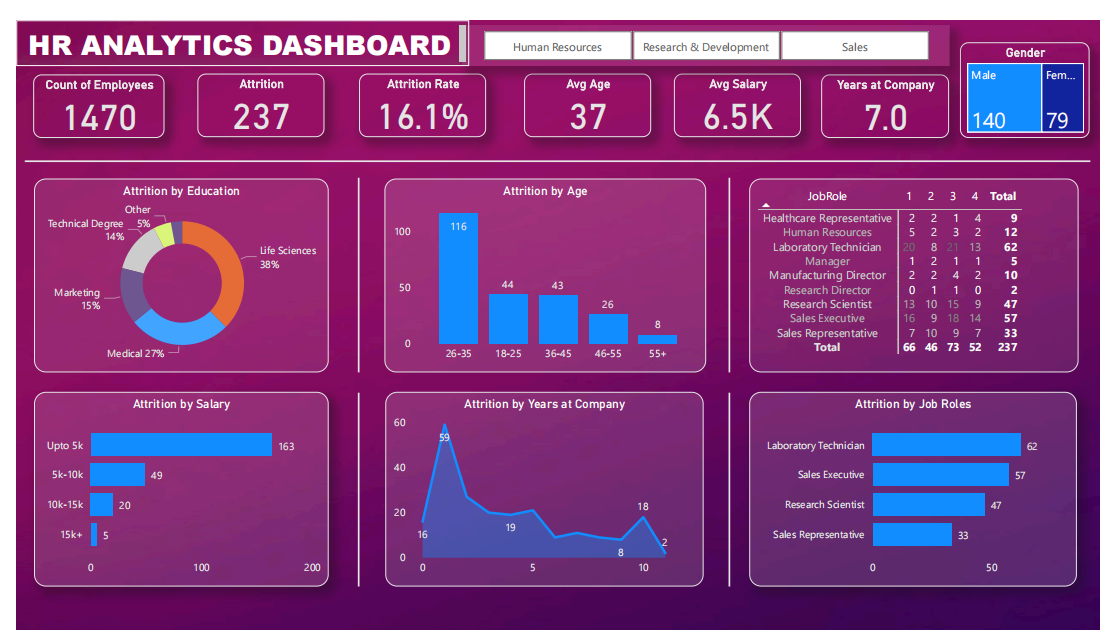

This screenshot's page, from the dashboard's own definition file:
{"tool":"powerbi","page":{"name":"Page 1","canvas":[1280,720],"ordinal":0},"visuals":[{"type":"card","title":"Count of Employees ","fields":{"Values":["CountNonNull(HR_Analytics.EmpID)"]},"box":[20.4,63.7,154.3,75.2],"z":0},{"type":"card","title":"Avg Age","fields":{"Values":["Avg(HR_Analytics.Age)"]},"box":[599.6,63.2,150,75],"z":1000},{"type":"card","title":"Attrition Rate","fields":{"Values":["HR_Analytics.AttritionRate"]},"box":[405.1,63.2,150,75],"z":2000},{"type":"card","title":"Attrition","fields":{"Values":["Sum(HR_Analytics.AttritionCount)"]},"box":[213.7,63.2,150,75],"z":3000},{"type":"card","title":"Avg Salary","fields":{"Values":["Avg(HR_Analytics.MonthlyIncome)"]},"box":[777.2,63.2,150,75],"z":4000},{"type":"card","title":"Years at Company","fields":{"Values":["Avg(HR_Analytics.YearsAtCompany)"]},"box":[951.1,63.7,150.4,75.2],"z":5000},{"type":"donutChart","title":"Attrition by Education","fields":{"Category":["HR_Analytics.EducationField"],"Y":["Sum(HR_Analytics.AttritionCount)"]},"box":[21.3,186.5,347.2,229.2],"z":6000},{"type":"columnChart","title":"Attrition by Age","fields":{"Category":["HR_Analytics.AgeGroup"],"Y":["Sum(HR_Analytics.AttritionCount)"]},"box":[434.8,186.5,379.8,229.2],"z":7000},{"type":"pivotTable","fields":{"Rows":["HR_Analytics.JobRole"],"Columns":["HR_Analytics.JobSatisfaction"],"Values":["Sum(HR_Analytics.AttritionCount)"]},"box":[866.3,186.5,388.8,229.2],"z":8000},{"type":"barChart","title":"Attrition by Salary","fields":{"Category":["HR_Analytics.SalarySlab"],"Y":["Sum(HR_Analytics.AttritionCount)"]},"box":[21.3,439.3,347.2,229.2],"z":9000},{"type":"barChart","title":"Attrition by Job Roles","fields":{"Category":["HR_Analytics.JobRole"],"Y":["Sum(HR_Analytics.AttritionCount)"]},"box":[866.3,439.3,386.5,229.2],"z":10000},{"type":"areaChart","title":"Attrition by Years at Company","fields":{"Category":["HR_Analytics.YearsAtCompany"],"Y":["Sum(HR_Analytics.AttritionCount)"]},"box":[436,439.3,376.4,229.2],"z":11000},{"type":"treemap","title":"Gender","fields":{"Group":["HR_Analytics.Gender"],"Values":["Sum(HR_Analytics.AttritionCount)"]},"box":[1115.5,25.7,152.5,113.2],"z":12000},{"type":"slicer","fields":{"Values":["HR_Analytics.Department"]},"box":[527,5.6,575.3,48.3],"z":13000},{"type":"textbox","box":[0,0,534.8,53.9],"z":14000}]}

Visuals, with their boxes in screenshot pixels (x1, y1, x2, y2), scaled from the page's 1280x720 canvas onto the 1115x644 screenshot:
"Count of Employees " card: <box>18,57,152,124</box>
"Avg Age" card: <box>522,57,653,124</box>
"Attrition Rate" card: <box>353,57,484,124</box>
"Attrition" card: <box>186,57,317,124</box>
"Avg Salary" card: <box>677,57,808,124</box>
"Years at Company" card: <box>828,57,960,124</box>
"Attrition by Education" donutChart: <box>19,167,321,372</box>
"Attrition by Age" columnChart: <box>379,167,710,372</box>
pivotTable - HR_Analytics.JobRole x HR_Analytics.JobSatisfaction: <box>755,167,1093,372</box>
"Attrition by Salary" barChart: <box>19,393,321,598</box>
"Attrition by Job Roles" barChart: <box>755,393,1091,598</box>
"Attrition by Years at Company" areaChart: <box>380,393,708,598</box>
"Gender" treemap: <box>972,23,1105,124</box>
slicer - HR_Analytics.Department: <box>459,5,960,48</box>
textbox: <box>0,0,466,48</box>
